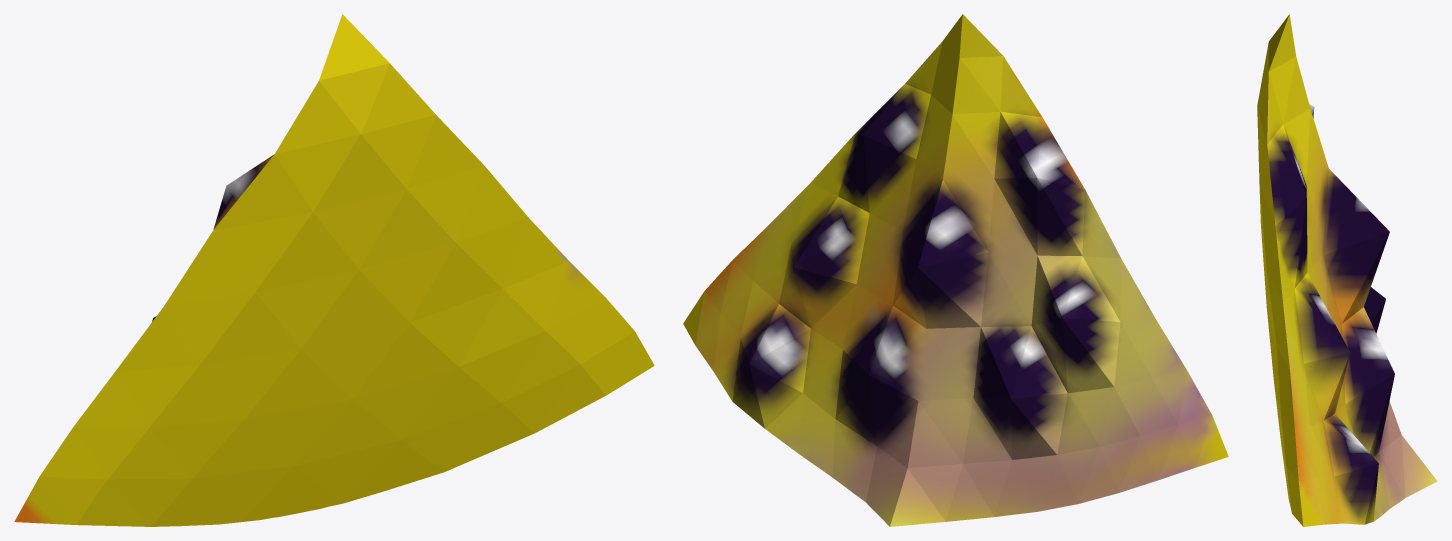
The model's file is WallGreeble01.fbx.
3 views of the same model, side by side, from view 1: azimuth 30°, elevation 25°; view 2: azimuth 150°, elevation 25°; view 3: azimuth 270°, elevation 25° (orthographic). The views are drawn at different scales.
Parts seen in each view (by area): view 1: Cone; view 2: Cone; view 3: Cone.
Boxes of the visible parts, x1=… form: Cone: x1=14, y1=14, x2=654, y2=526; Cone: x1=683, y1=14, x2=1228, y2=526; Cone: x1=1257, y1=14, x2=1437, y2=526.
Bounding box in the file's own units: 400 × 322 × 113.
